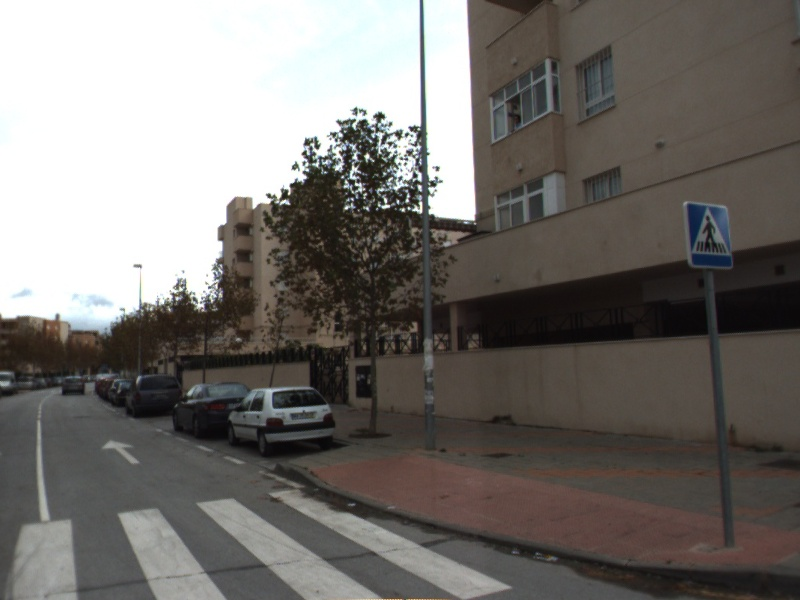STRAIGHT: (100, 438, 143, 466)
